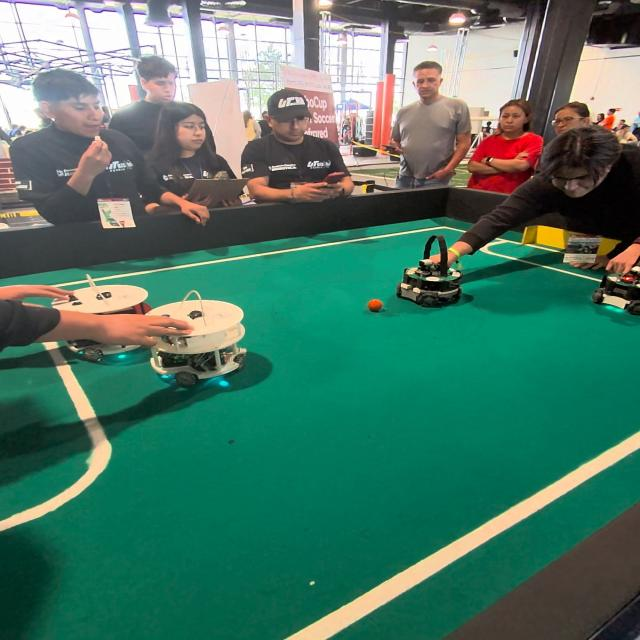Robot: (148, 286, 271, 400), (48, 270, 158, 366), (398, 229, 468, 313), (592, 242, 640, 326)
pelota: (368, 297, 384, 309)
